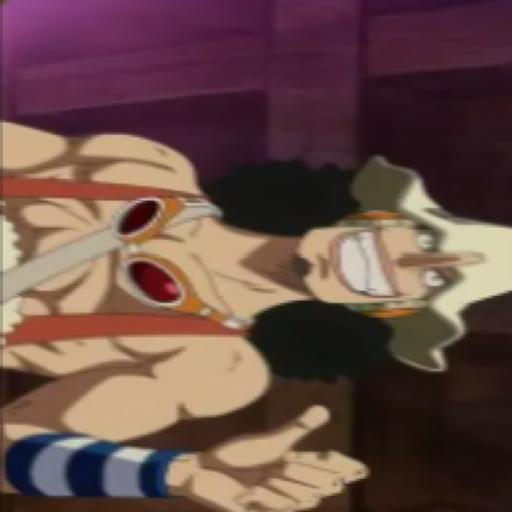Usopp: (0, 107, 512, 512)
